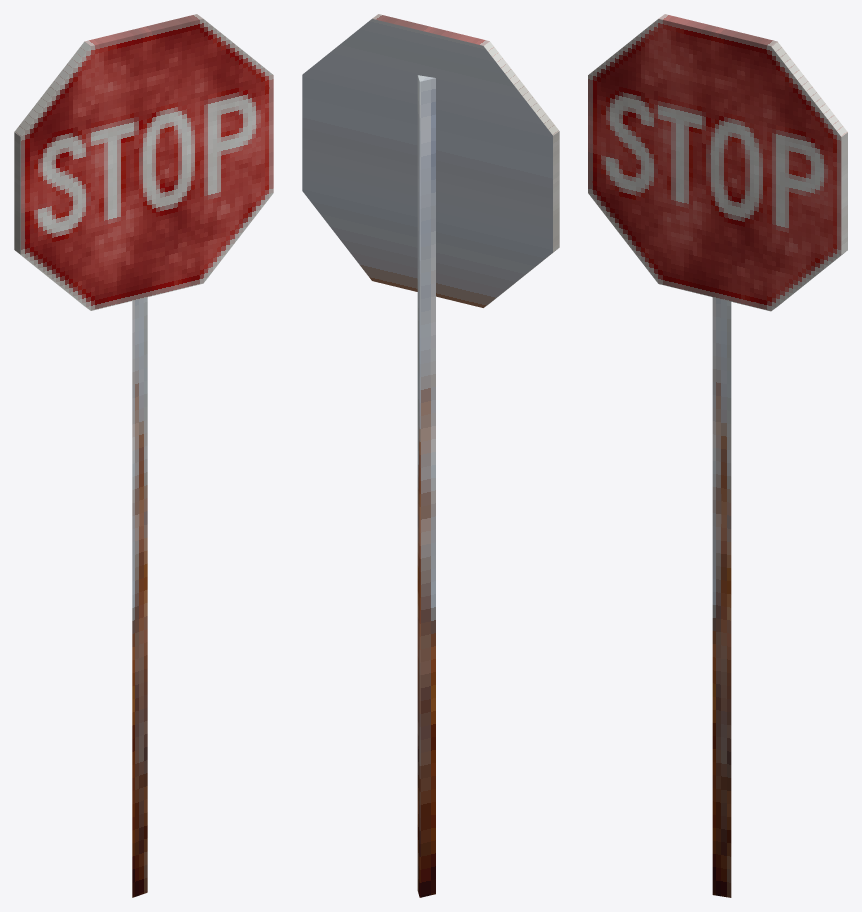
Rendered from stop_sign.glb.
The picture shows the model from 3 angles, left to right: view 1: azimuth 30°, elevation 25°; view 2: azimuth 150°, elevation 25°; view 3: azimuth 330°, elevation 25°; orthographic projection.
Parts seen in each view (by area): view 1: stop_sign; view 2: stop_sign; view 3: stop_sign.
Boxes of the visible parts, bbox=[...] form: stop_sign: bbox=[14, 14, 273, 897]; stop_sign: bbox=[302, 14, 559, 897]; stop_sign: bbox=[588, 14, 847, 897].
Size of the model in its own units: 0.9 by 2.95 by 0.09.
Materials: 1 (1 with a texture image).
